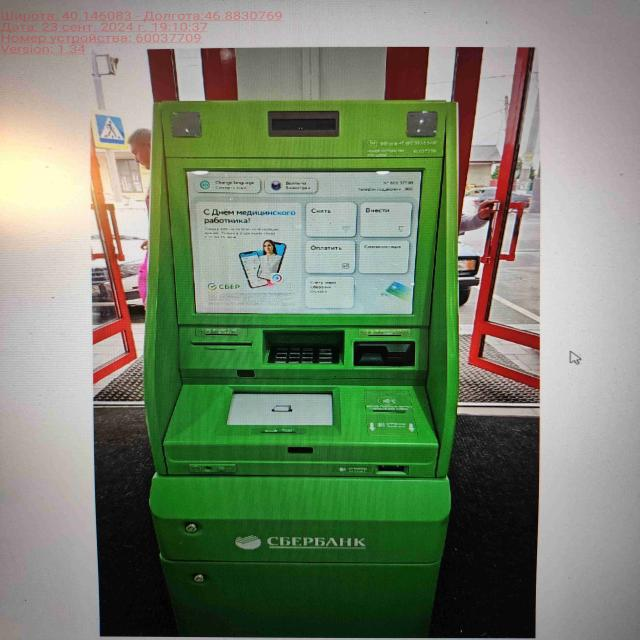bank: (140, 94, 459, 632)
